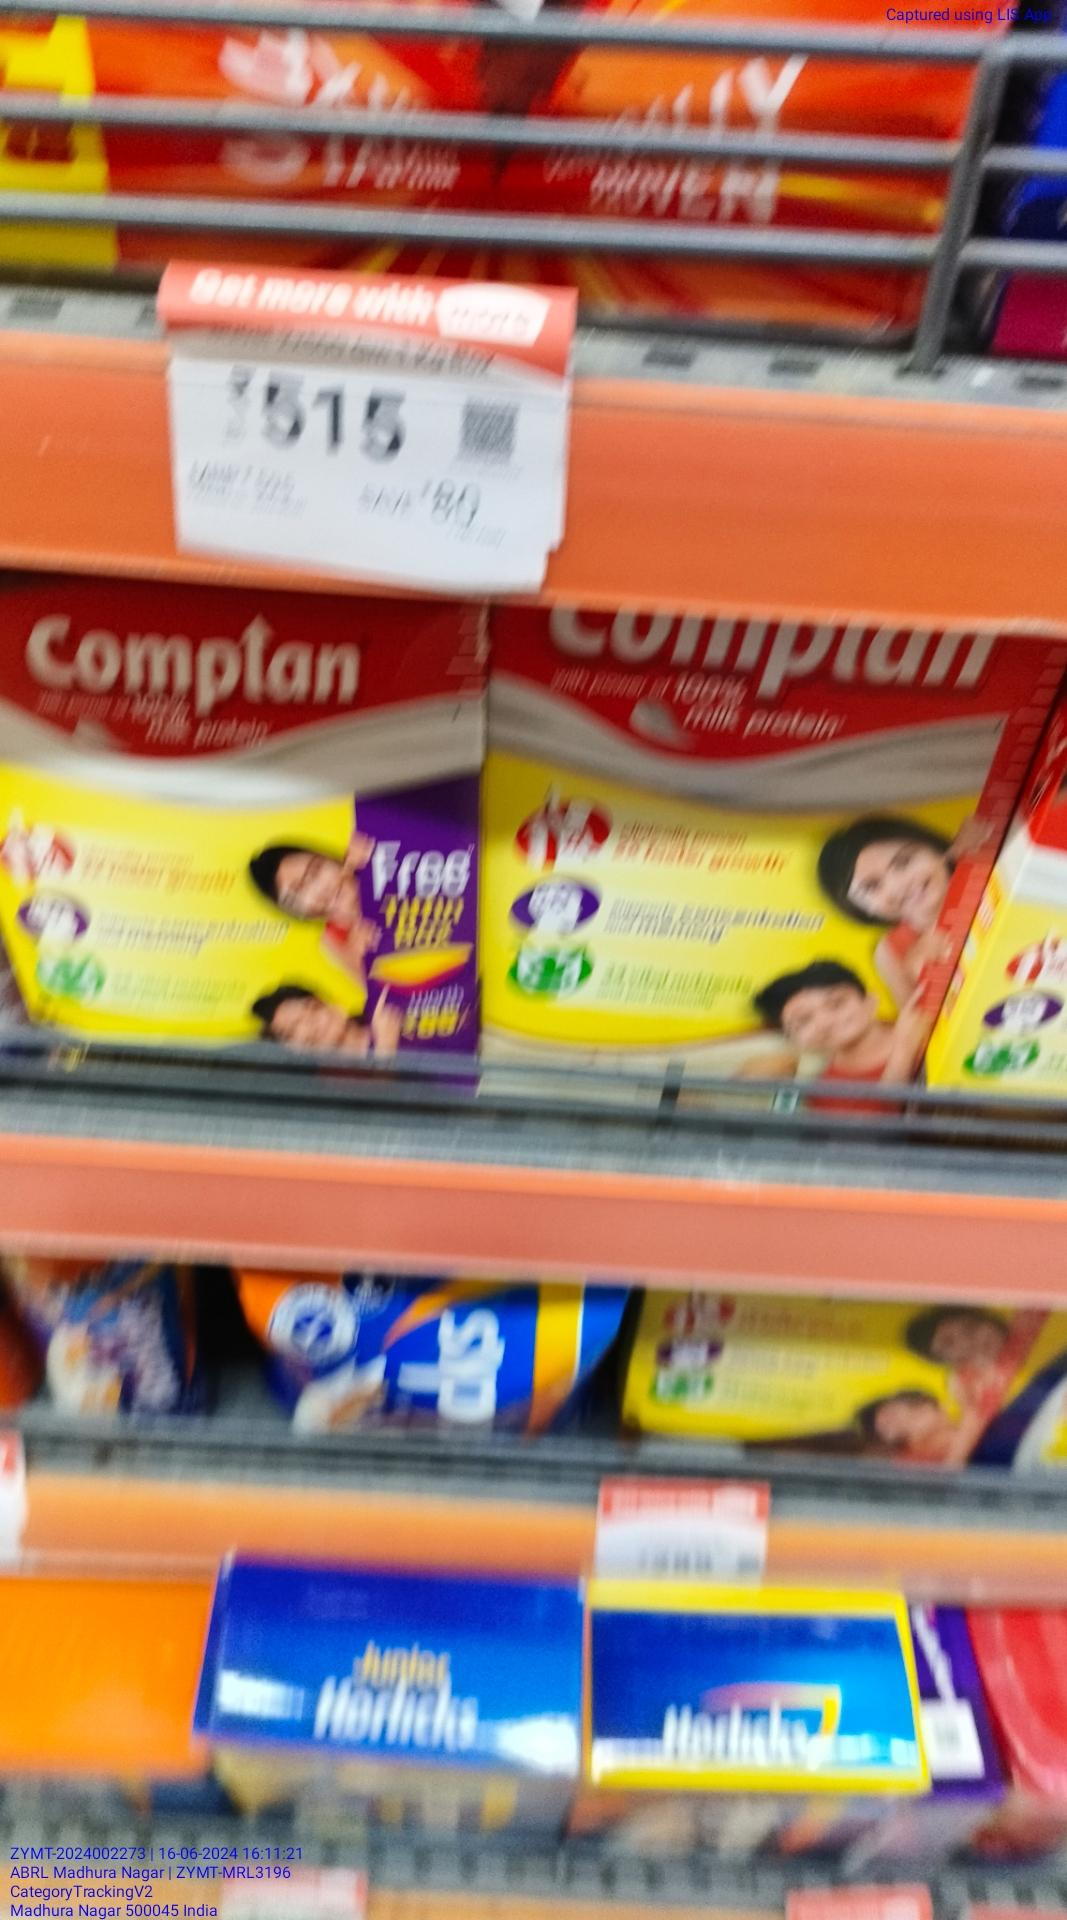COMPLAN_CHOCOLATE_500_GMS_PACK: (0, 584, 473, 1093)
COMPLAN_KESAR_BADAM_500_GMS_PACK: (490, 599, 919, 1110)
